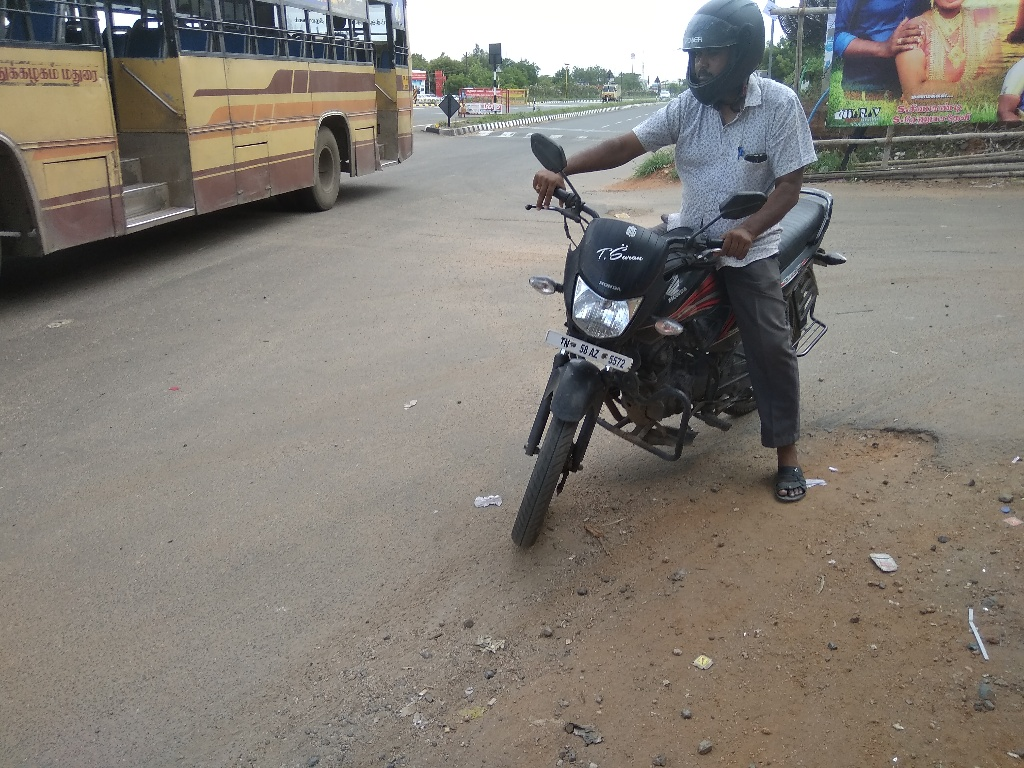biker: (494, 1, 862, 567)
helmet: (671, 1, 776, 115)
